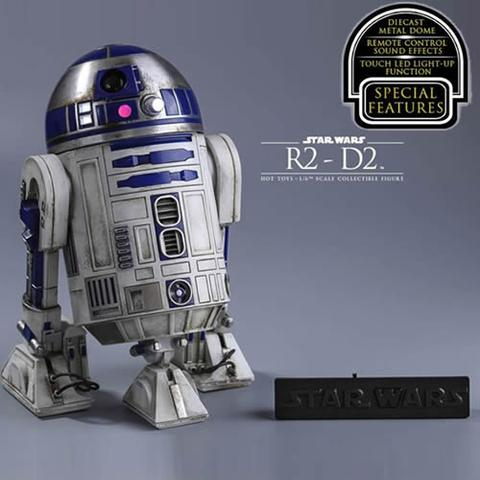r2d2: (1, 43, 255, 429)
